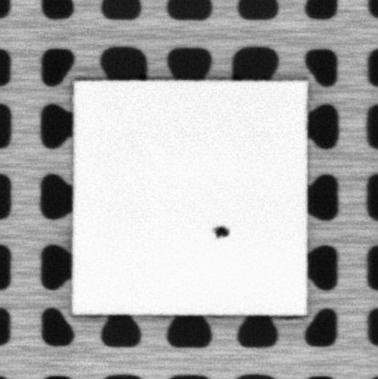DIE_INK: (212, 224, 231, 239)
